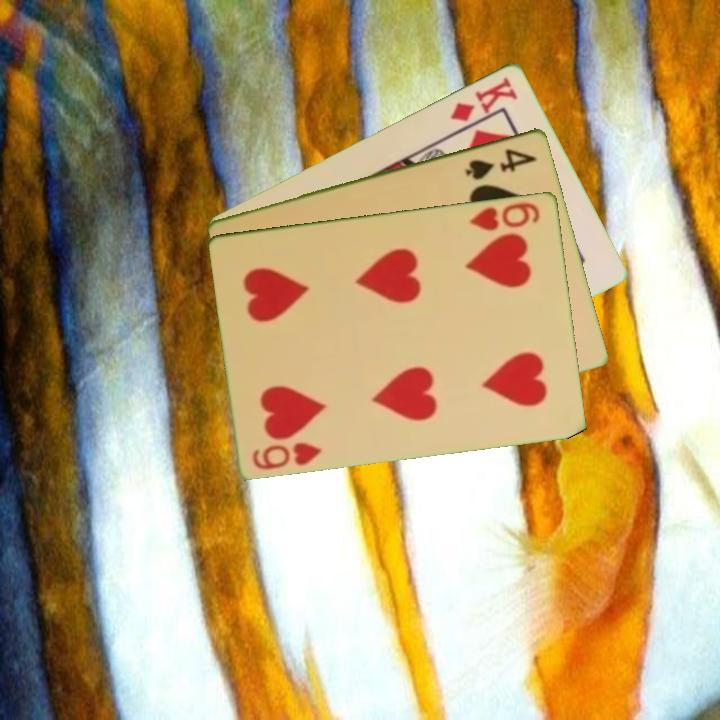4s: (462, 144, 540, 183)
6h: (466, 198, 543, 233), (249, 438, 325, 473)
Kd: (446, 73, 521, 124)
